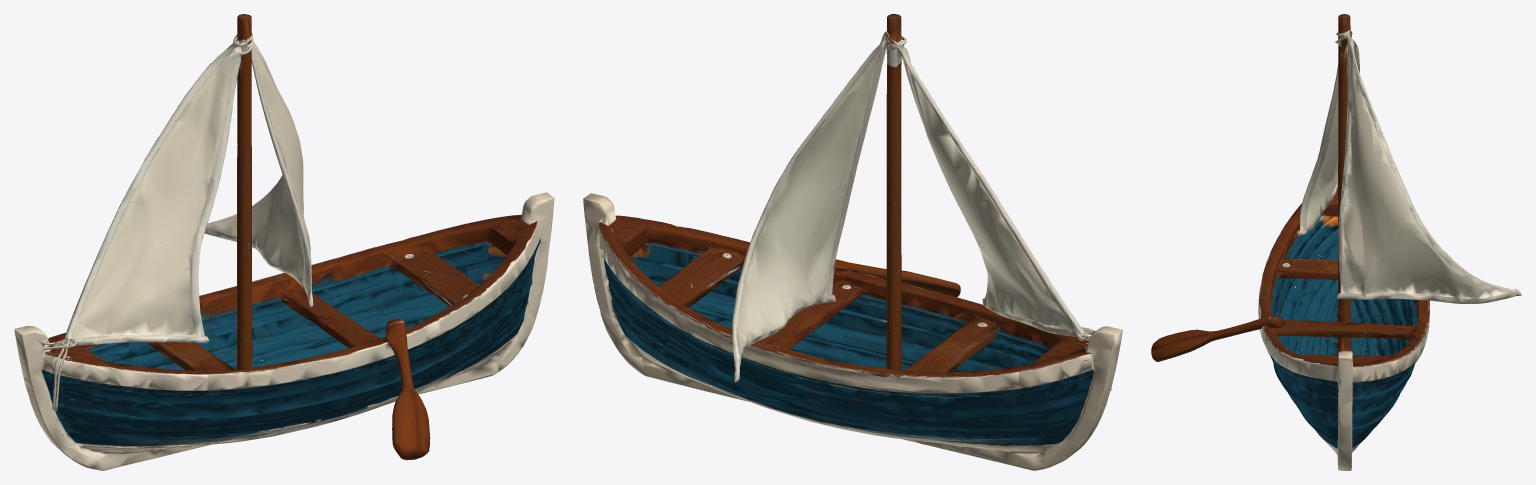
Rendered from boat.glb.
3 views of the same model, side by side, from view 1: azimuth 30°, elevation 25°; view 2: azimuth 150°, elevation 25°; view 3: azimuth 270°, elevation 25° (orthographic). The views are drawn at different scales.
Bounding box in the file's own units: 1.9 × 1.42 × 1.35.
1 material, 1 textured.
